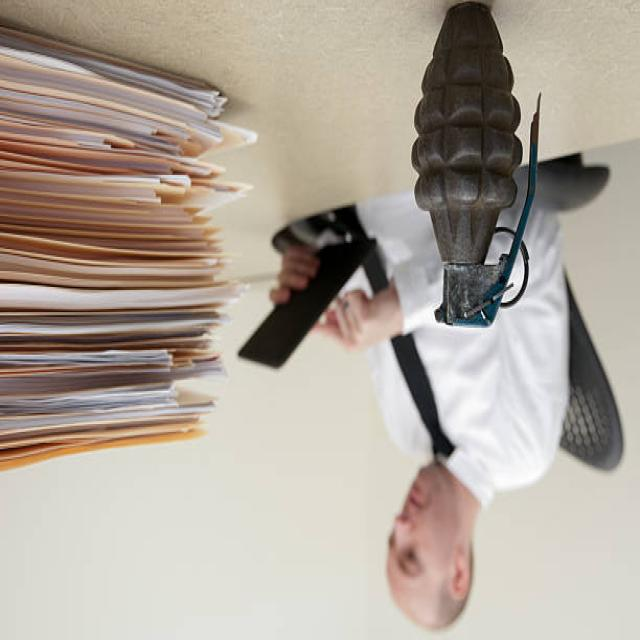grenade: (408, 1, 552, 335)
